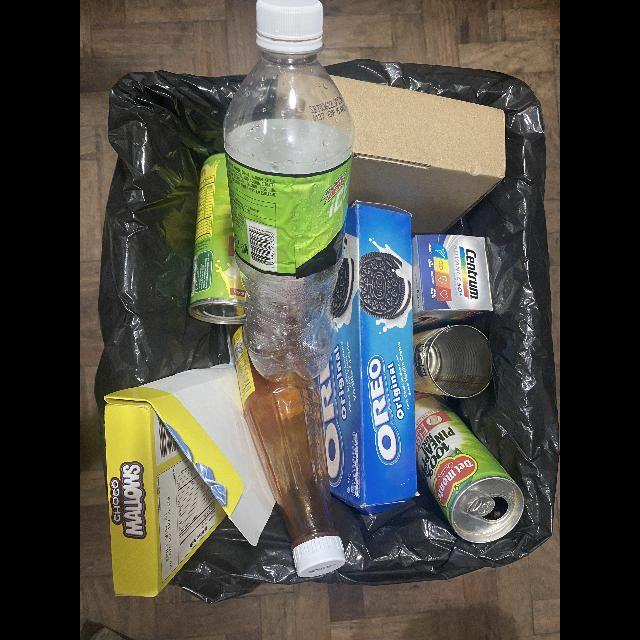aluminum: (415, 390, 524, 543), (189, 152, 248, 324)
cardboard: (103, 363, 276, 597), (315, 200, 417, 515), (326, 73, 505, 235), (412, 235, 493, 333)
glass_bottle: (228, 324, 346, 577)
plastic_bottle: (223, 0, 355, 383)
